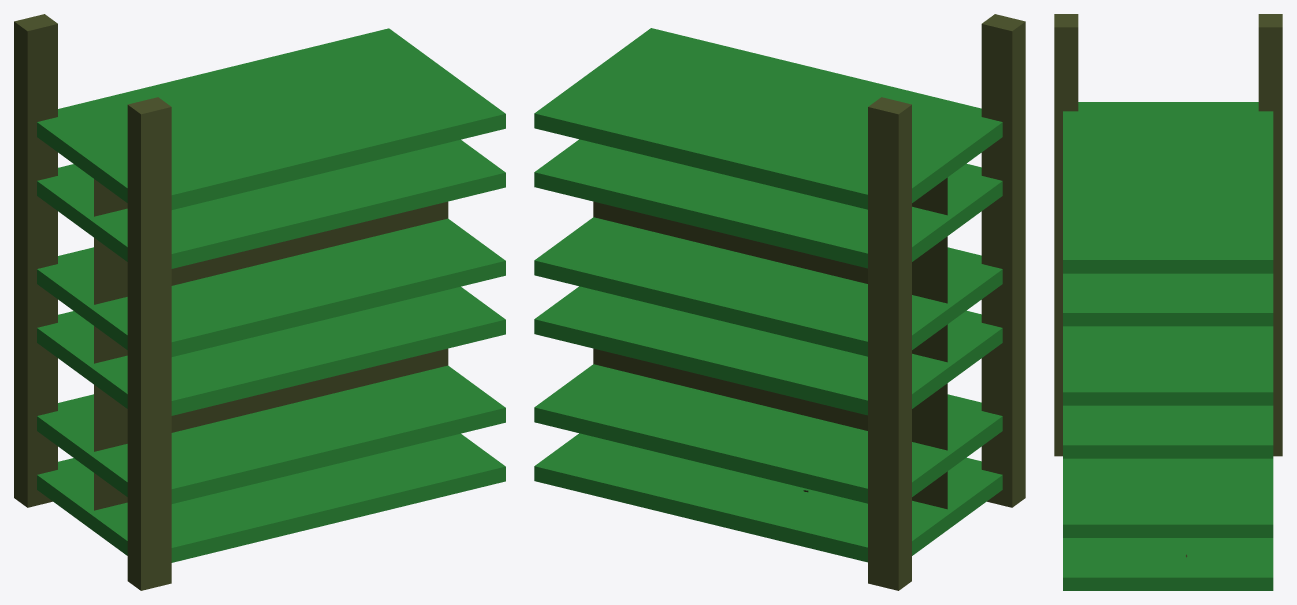
The model's file is almacen_vacio_com.fbx.
3 renders of one model, left to right at view 1: azimuth 30°, elevation 25°; view 2: azimuth 150°, elevation 25°; view 3: azimuth 270°, elevation 25°, orthographic. The views are drawn at different scales.
Visible parts, largest first — view 1: almacen_base_com; view 2: almacen_base_com; view 3: almacen_base_com.
Boxes of the visible parts, x1=… form: almacen_base_com: x1=14, y1=14, x2=505, y2=590; almacen_base_com: x1=534, y1=14, x2=1025, y2=590; almacen_base_com: x1=1054, y1=14, x2=1282, y2=590.
Size of the model in its own units: 202 by 248 by 120.
